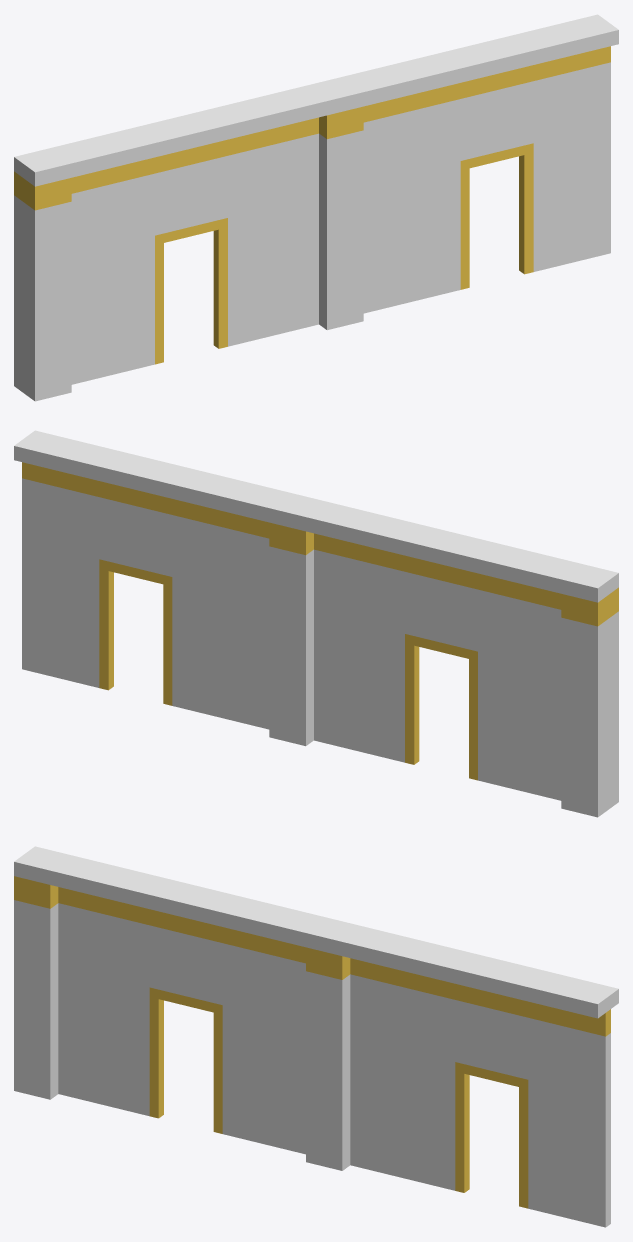
The model's file is penghubung_toilet_corridor_lantai_2.obj.
3 views of the same model, one above another, from view 1: azimuth 30°, elevation 25°; view 2: azimuth 150°, elevation 25°; view 3: azimuth 330°, elevation 25° (orthographic).
Size of the model in its own units: 12.8 by 4.8 by 0.8.
Materials: 1 (1 with a texture image).
